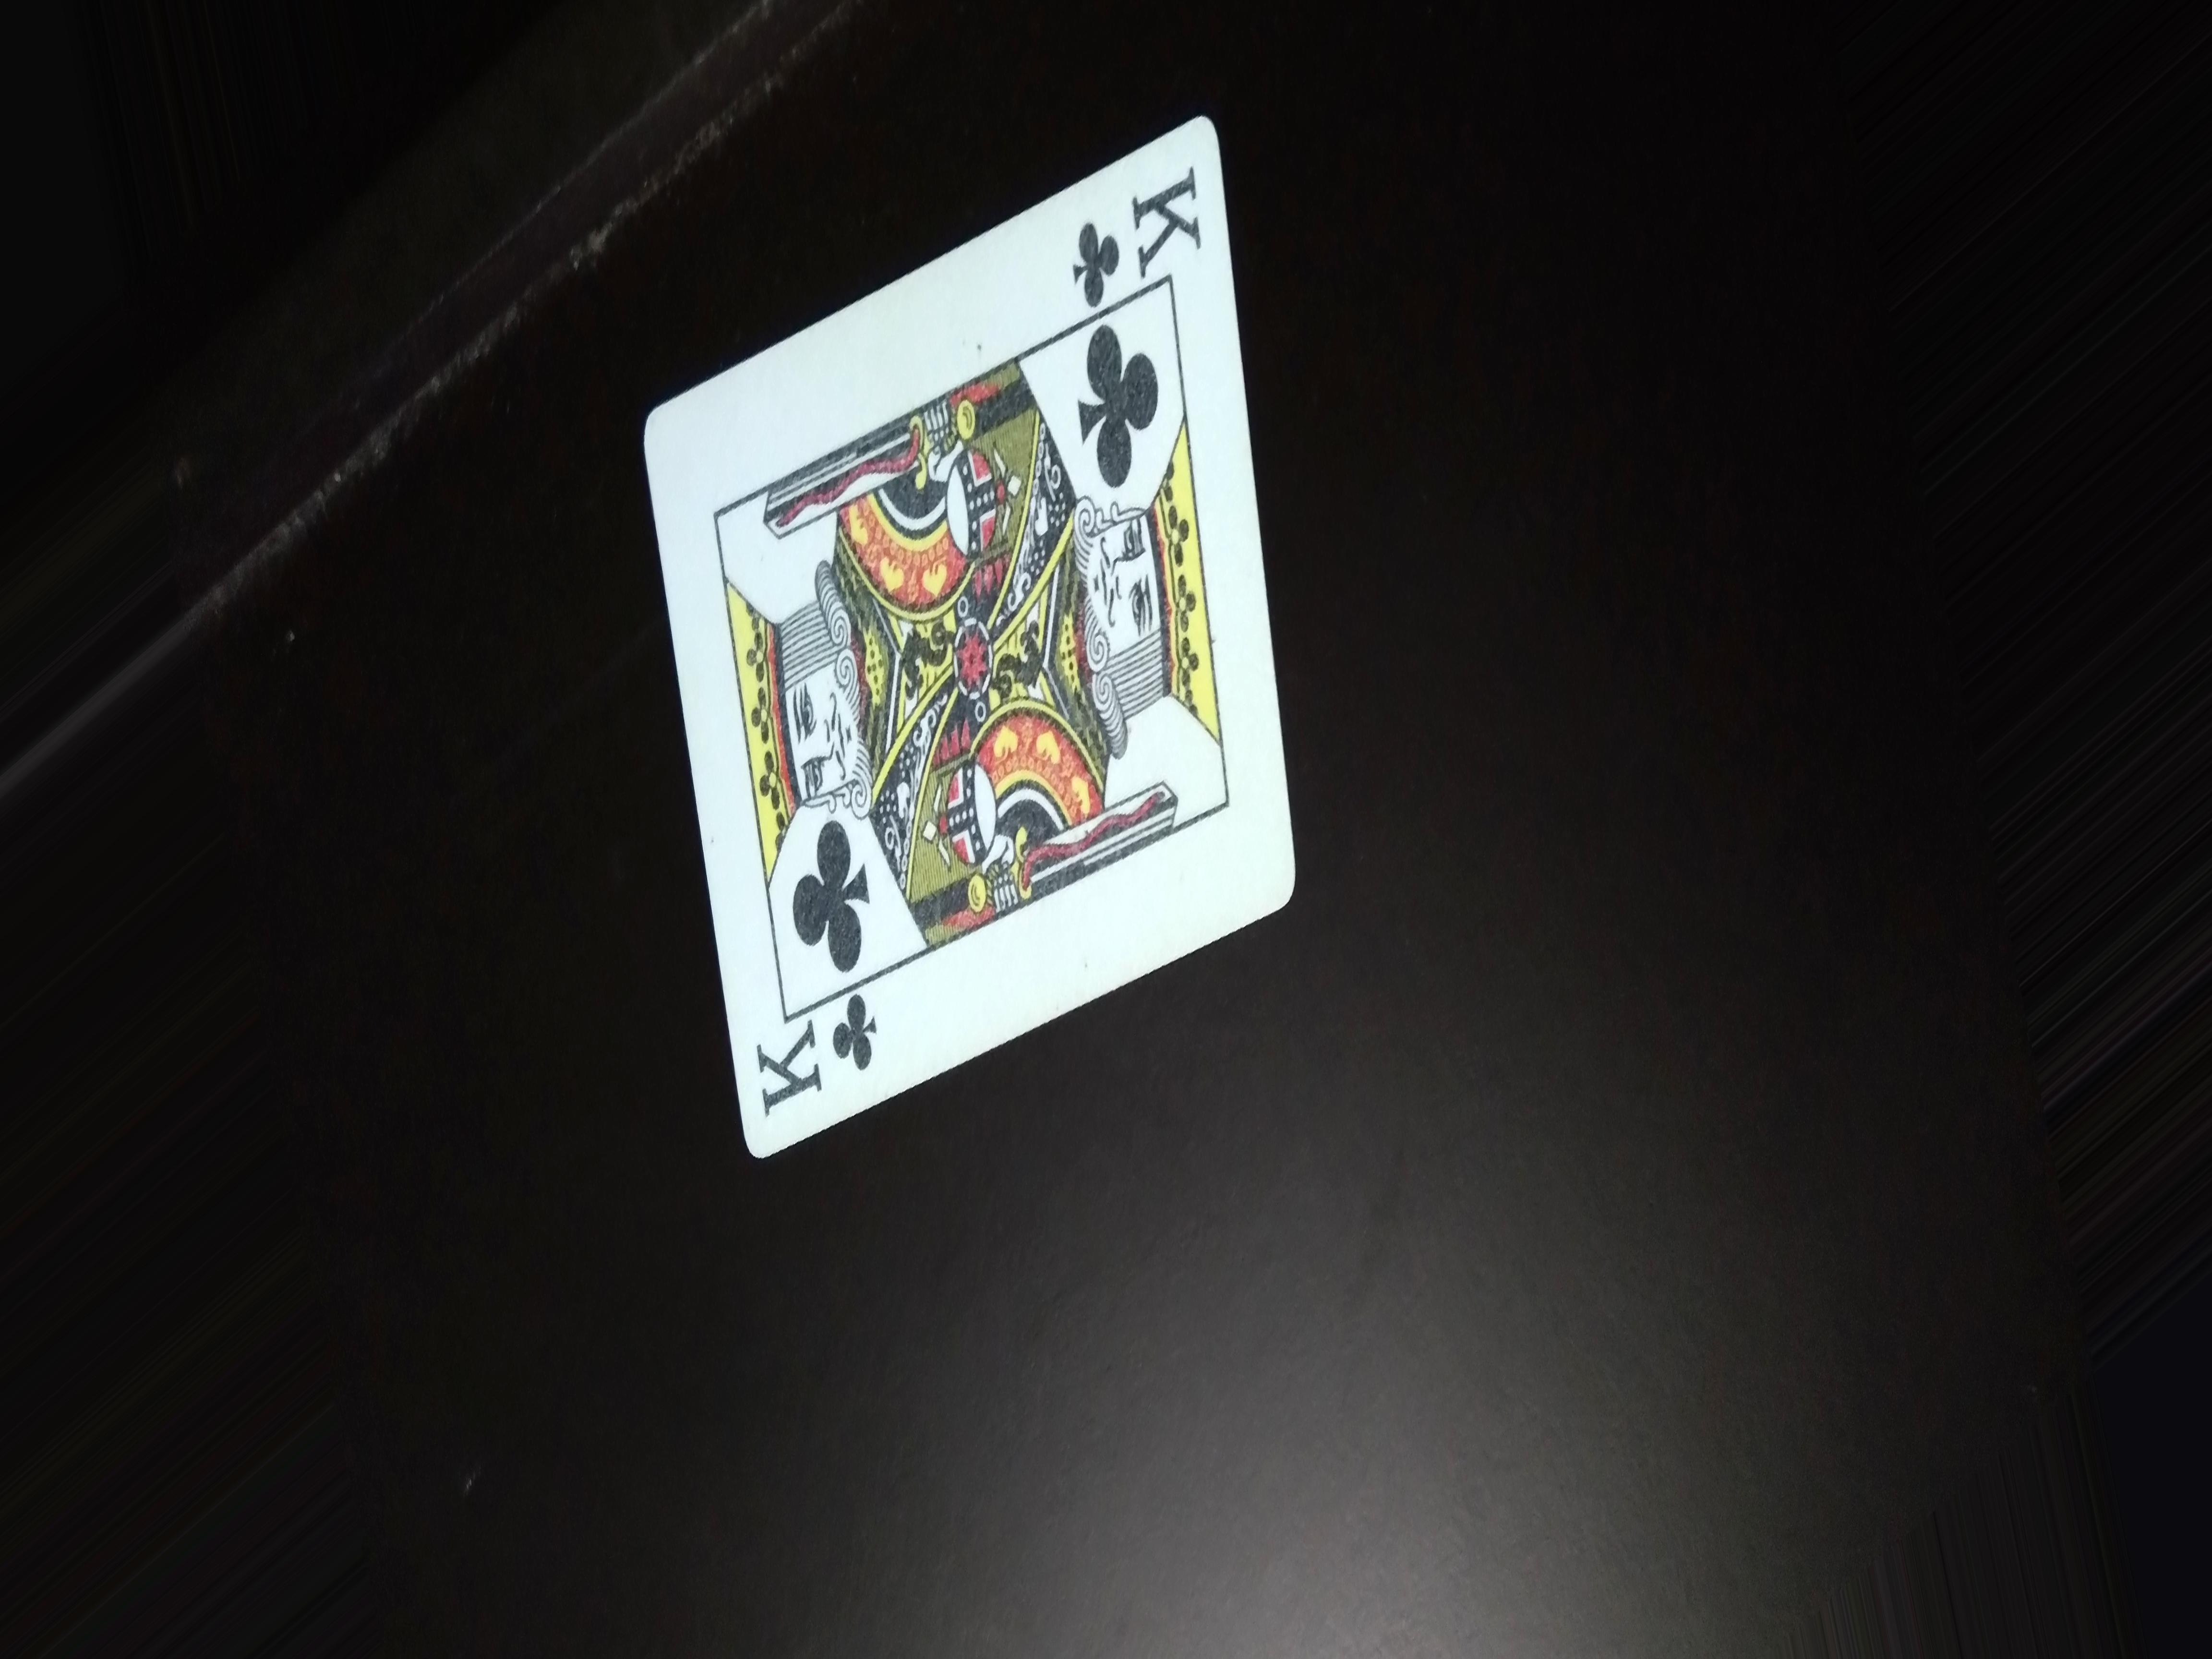KC: (1066, 169, 1226, 295)
